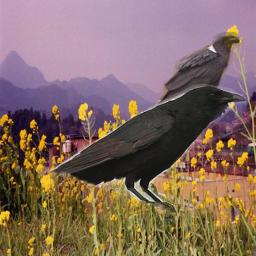Crow: (50, 84, 246, 214), (144, 32, 243, 119)
